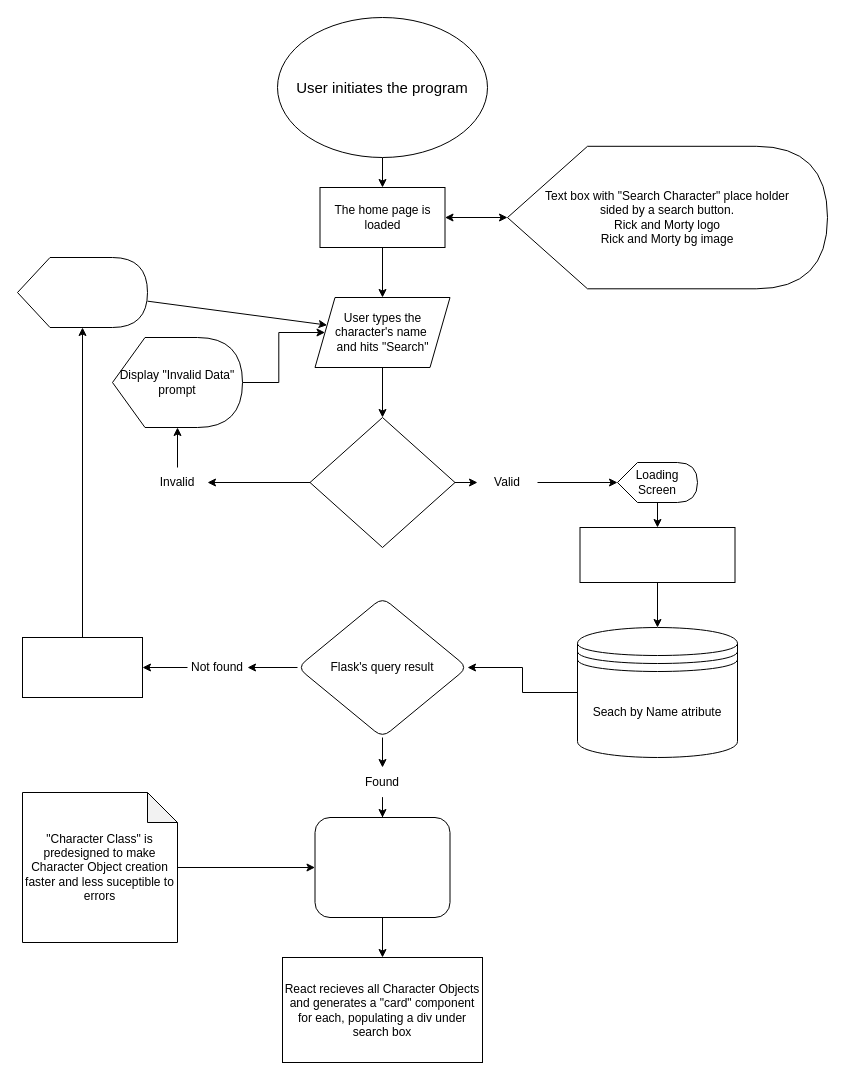
The diagram is 845 pixels wide and 1080 high, and some of its shapes have lost their labels. Each missing label, with the centre of its shape:
Display "Data not Found" prompt: the point at 82,292
Flask recieves "Not found" error, which proceeds to React: the point at 82,667
Flask recieves full data, and passes it on as a "Character Object" to React: the point at 382,867
Front sends query to Flask Flask send query to DB: the point at 657,554
Text Validation: the point at 382,482
